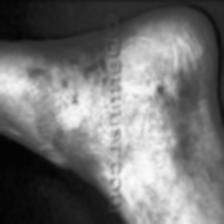Non-Cancerous Skin Condition: (32, 46, 80, 106), (82, 35, 104, 85)
